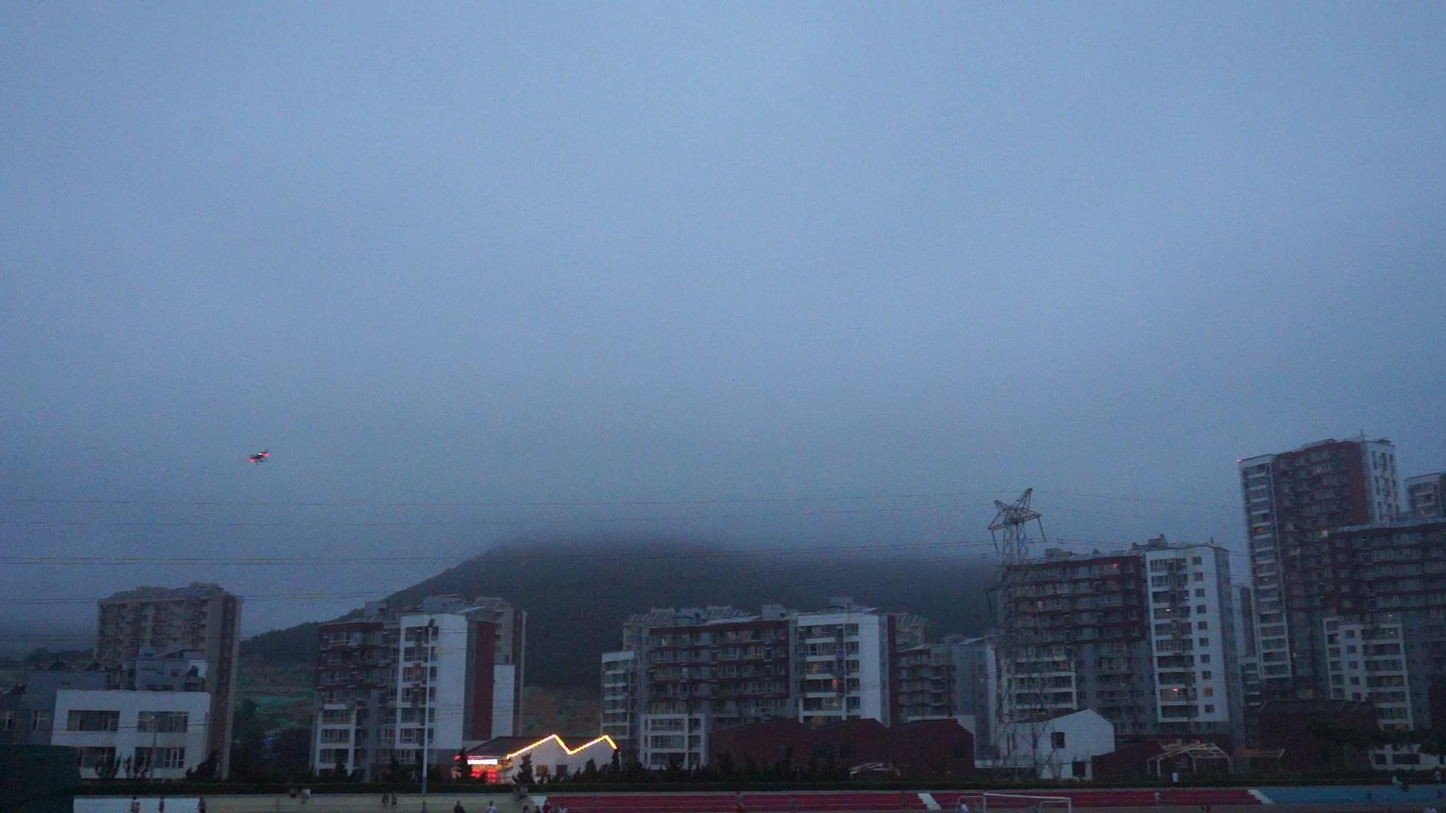UAV: (248, 452, 272, 466)
